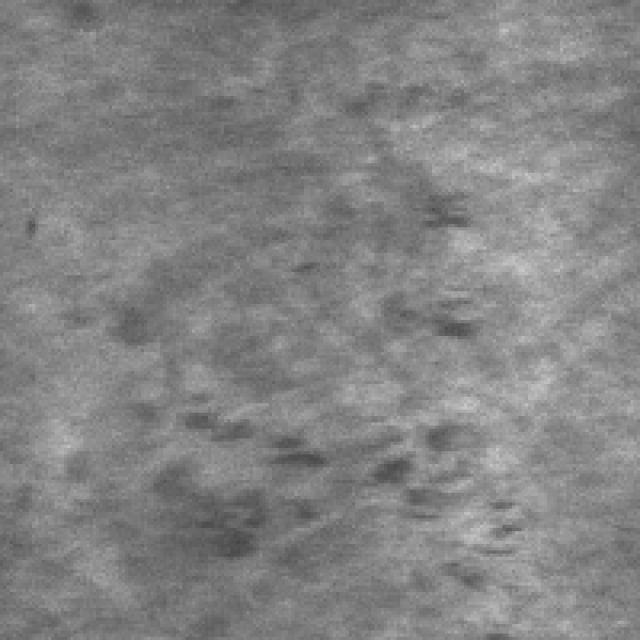rolled-in_scale: (86, 394, 528, 592), (304, 77, 474, 339)
